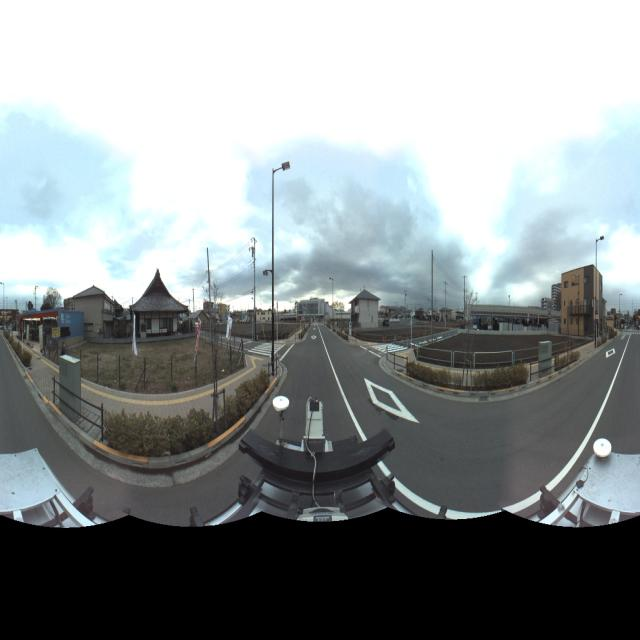b_1: (125, 266, 188, 350), (560, 266, 610, 351), (63, 274, 112, 346), (350, 290, 384, 338), (296, 294, 340, 324), (542, 284, 565, 319)
